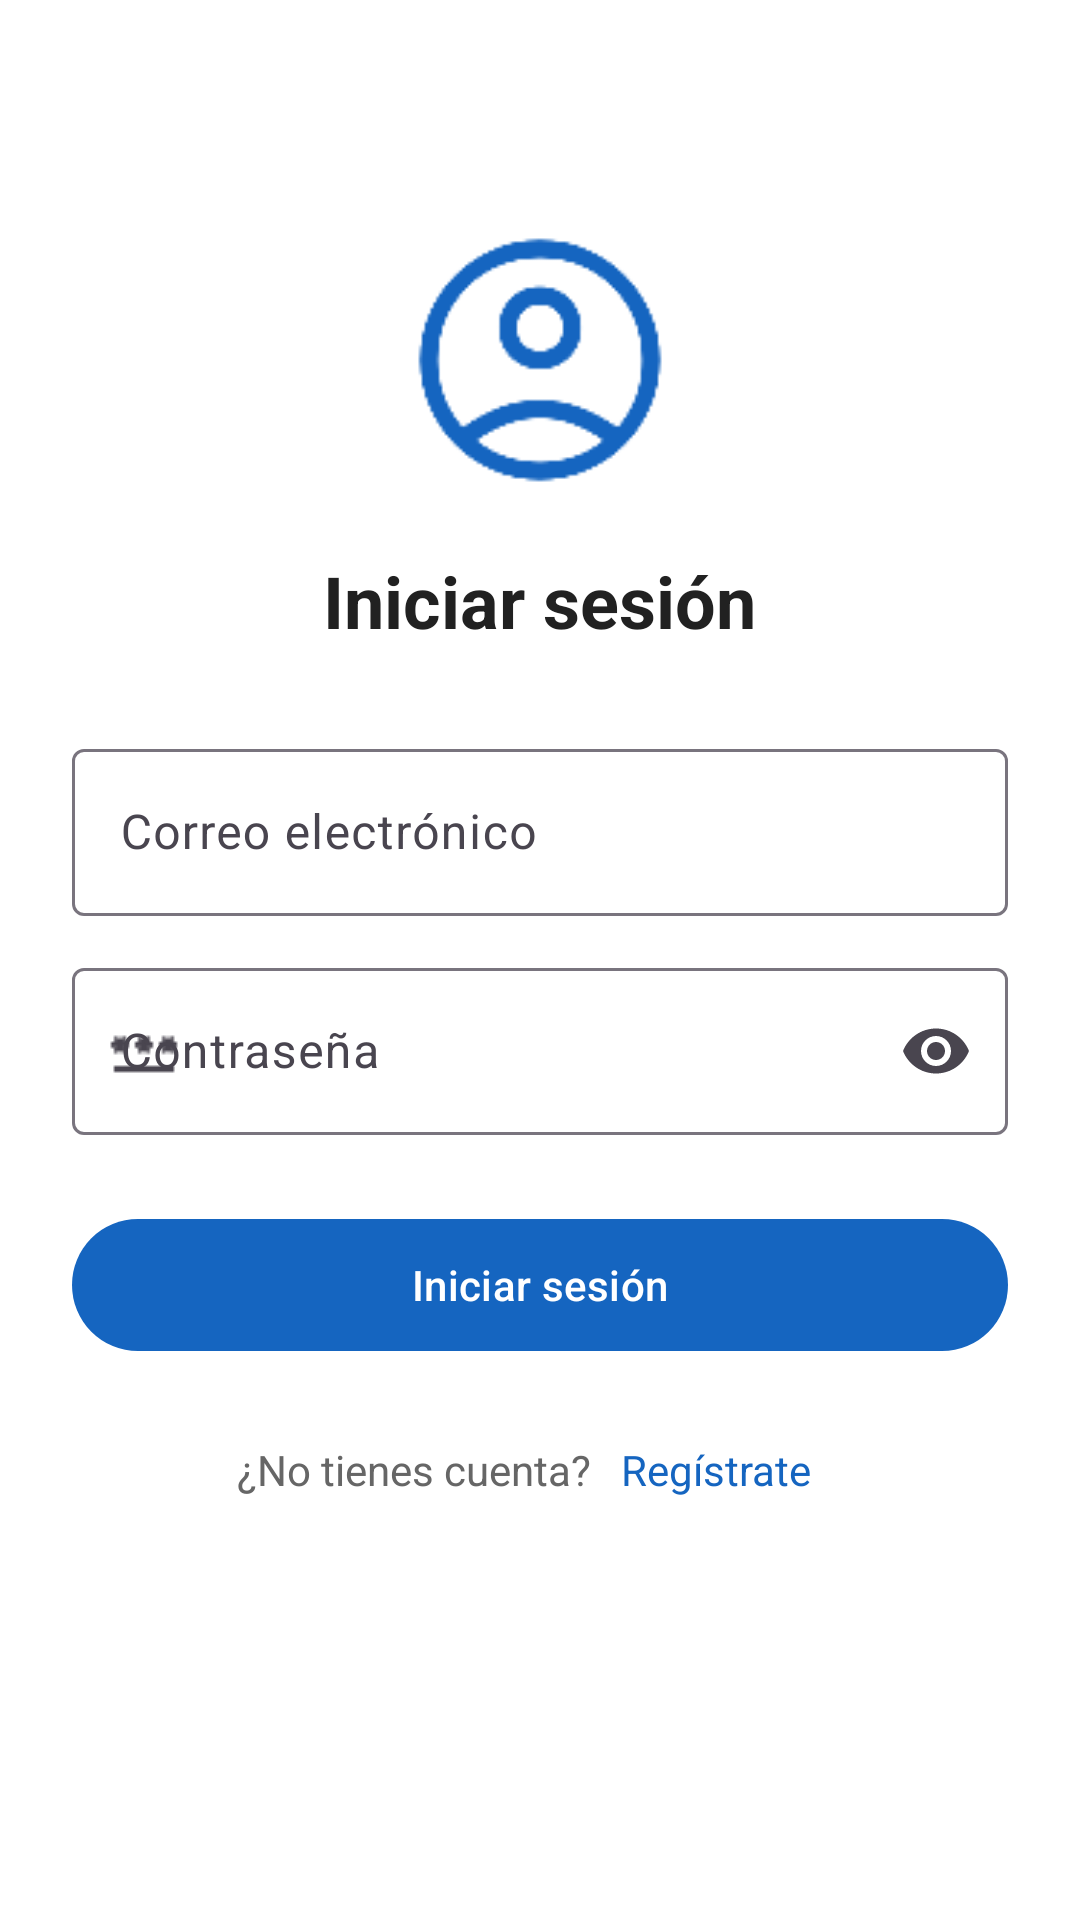

Where icons sit on this 1080 x 1920 app screen, as (x1, y1, x2, y2):
Usuario: (418, 238, 662, 482)
